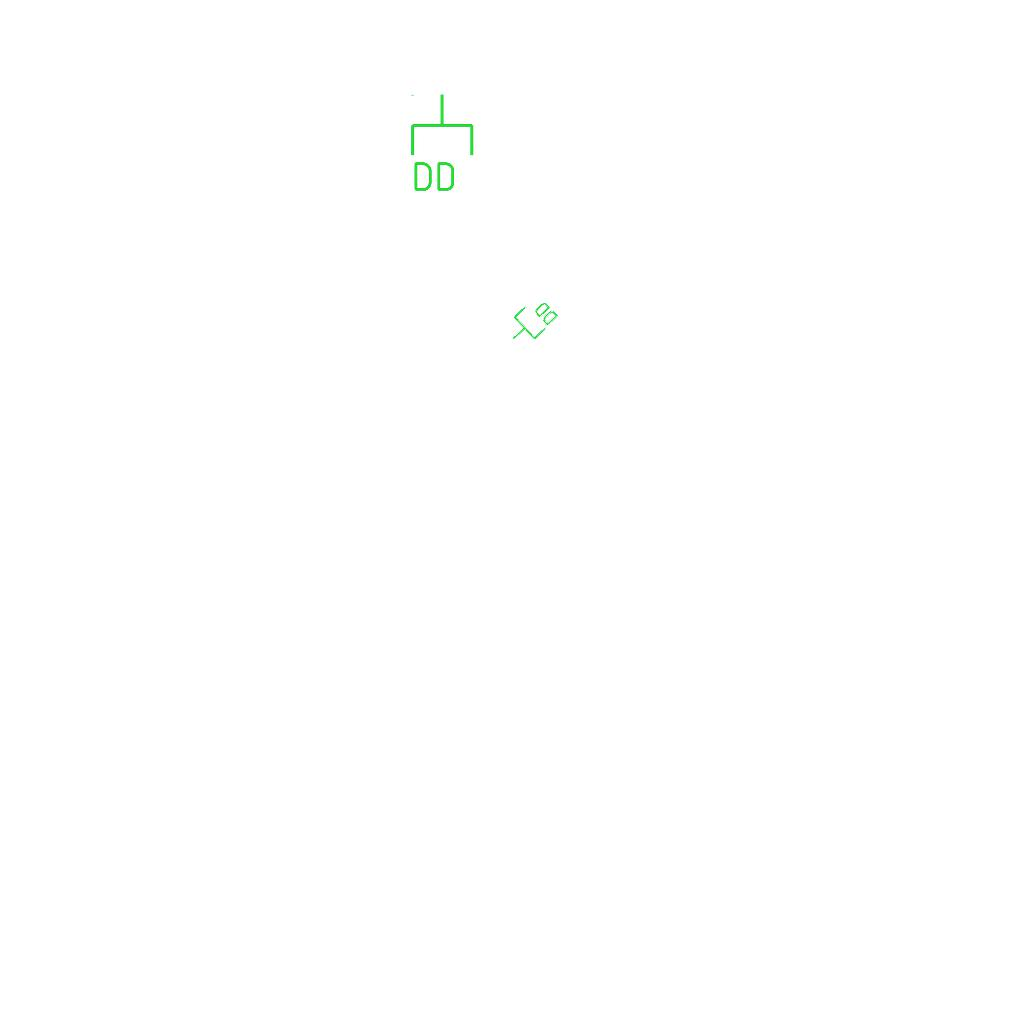Datenanschluss_zweifach: (407, 92, 476, 195), (501, 292, 562, 352)
